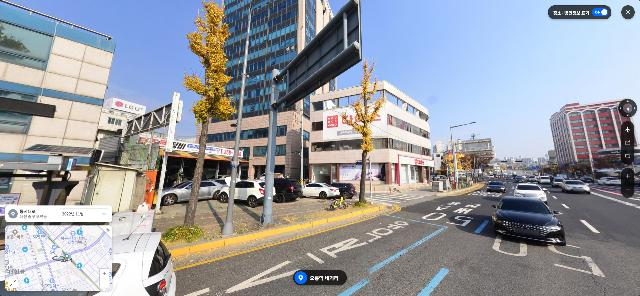ginkgo: (181, 0, 236, 228), (339, 57, 386, 204)
